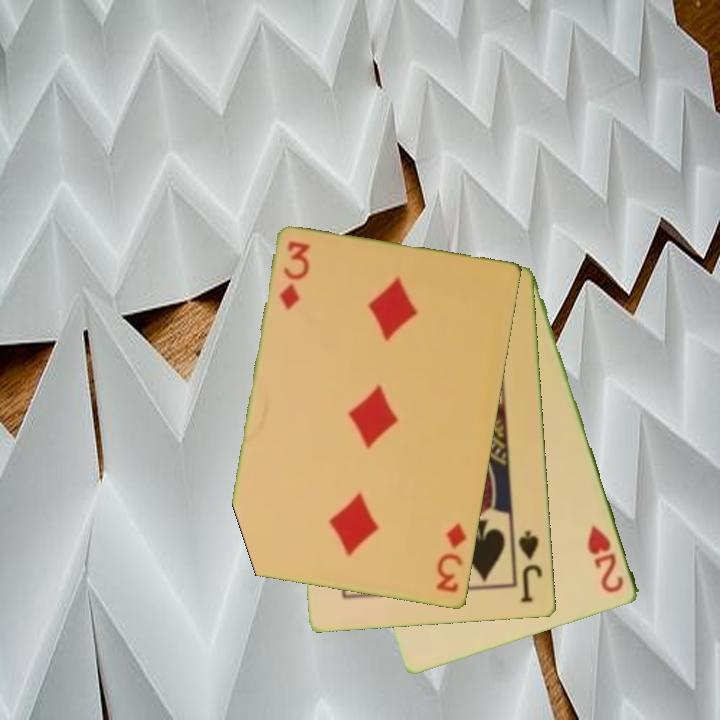2h: (584, 521, 628, 596)
3d: (433, 520, 471, 596), (276, 238, 313, 313)
Js: (515, 527, 546, 606)
